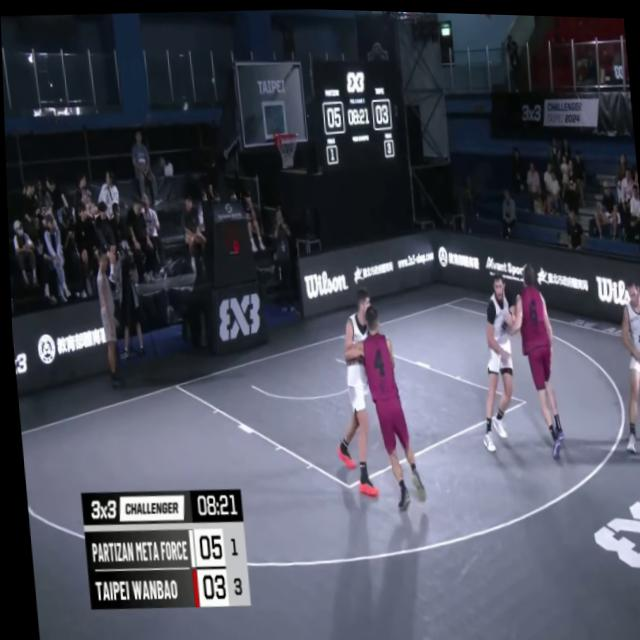ball: (479, 11, 493, 16)
hoop: (272, 127, 303, 169)
player: (338, 305, 428, 514), (321, 278, 384, 501), (498, 257, 564, 460), (468, 263, 525, 449), (607, 268, 640, 448)
